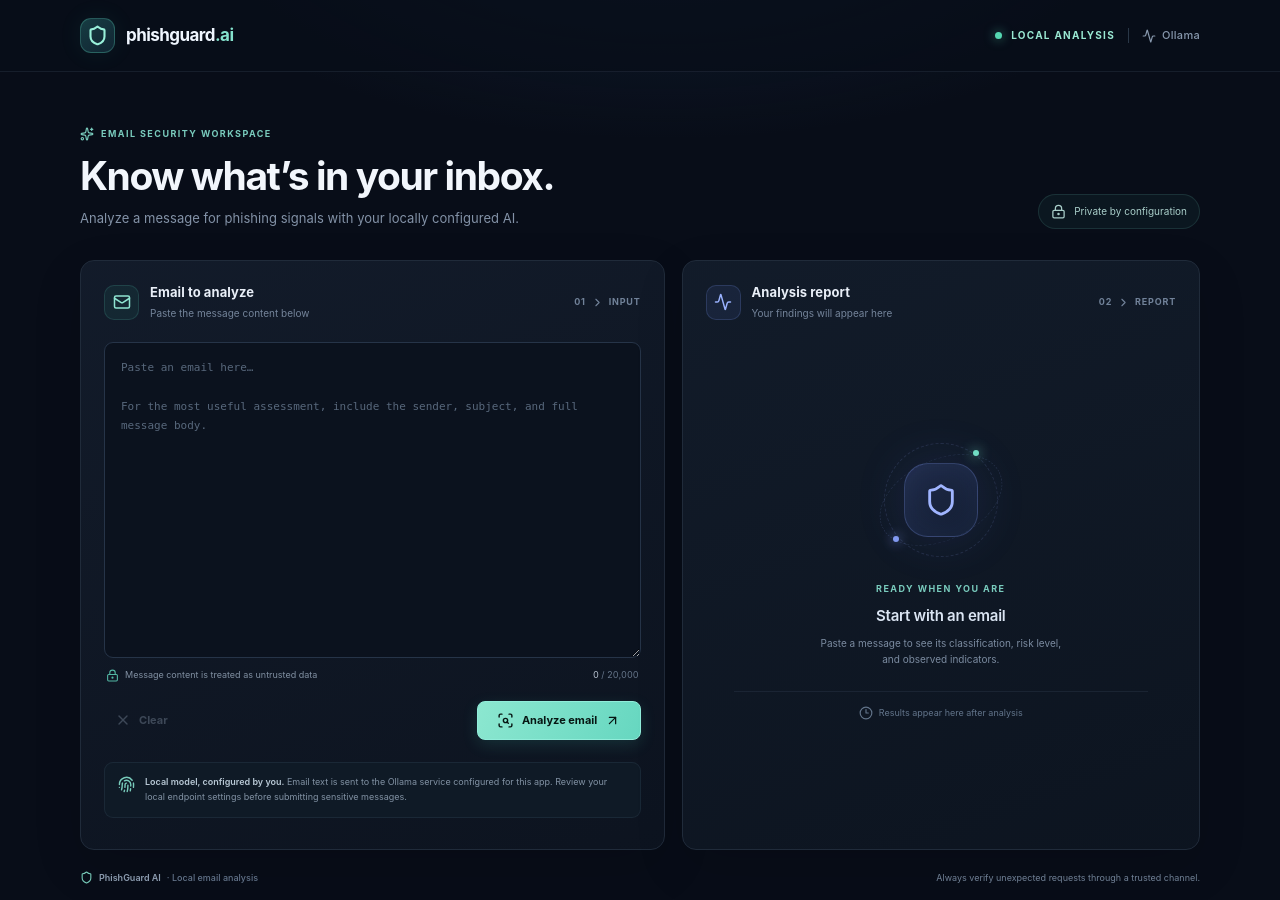
PhishGuard dashboard › shows a clear error for malformed successful JSON
Replace the text in the text box named "Email text" with "A message to assess" at (372, 500), box left=104, top=342, right=641, bottom=658
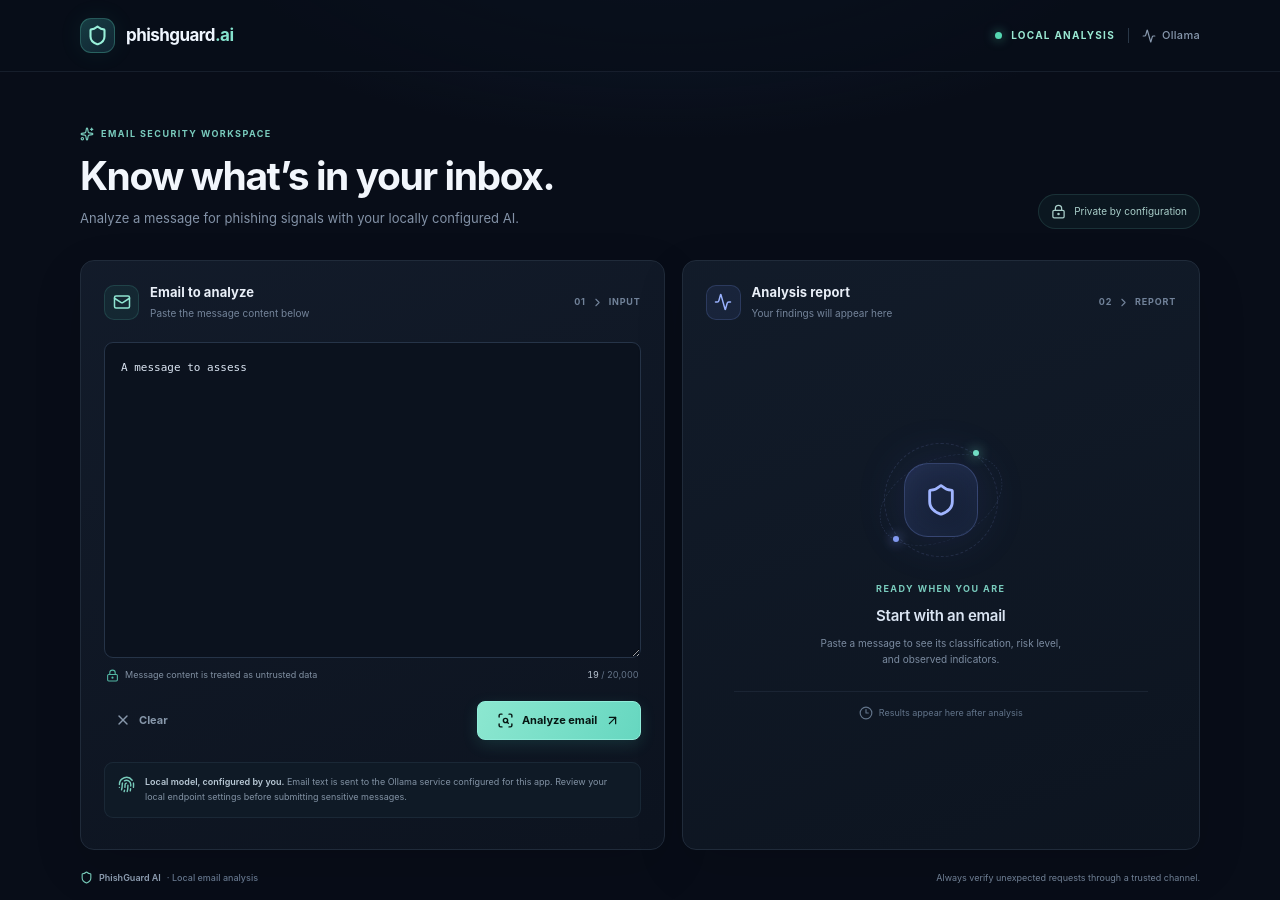
Click the button "Analyze email" at (559, 720), box left=477, top=701, right=641, bottom=740
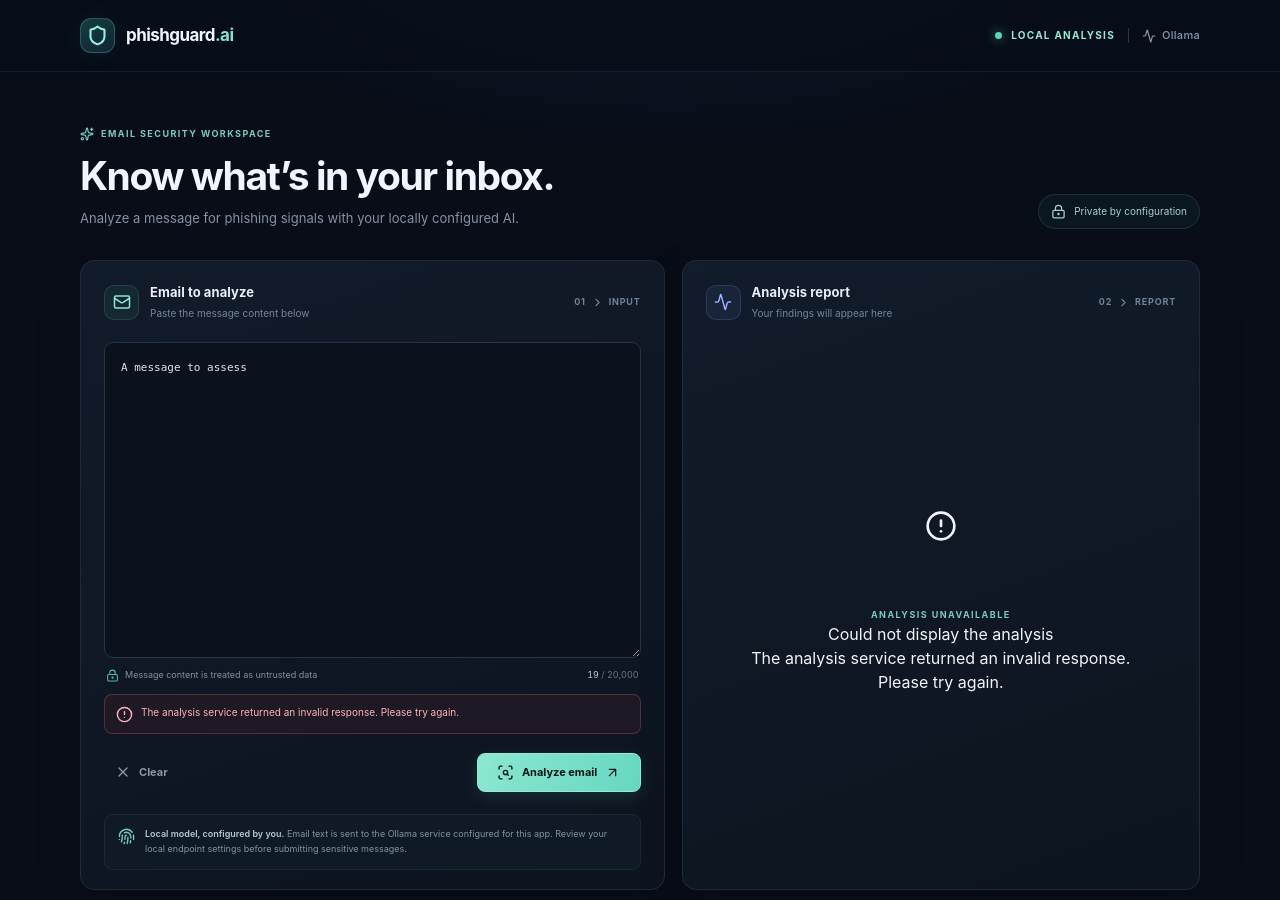
Expected: the message "The analysis service returned an invalid response. Please try again." is shown, left=104, top=694, right=641, bottom=734
Expected: the heading "Could not display the analysis" is shown, left=828, top=622, right=1054, bottom=646
